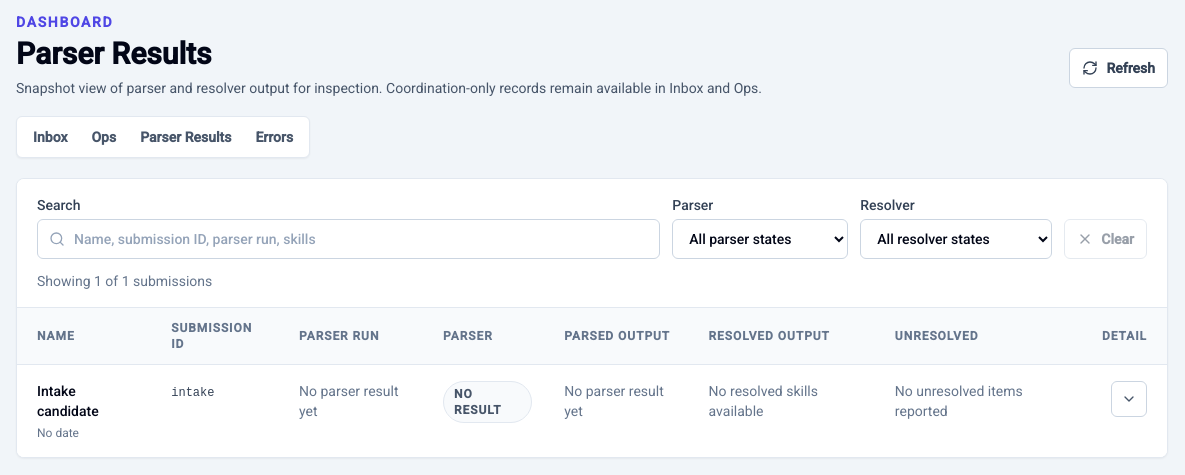
Scenario: removes an intake row when a refresh reports source expiry
This screenshot has width=1185, height=475.
Click the button titled "Refresh parser results" at (1119, 68), box [1069, 48, 1168, 88]
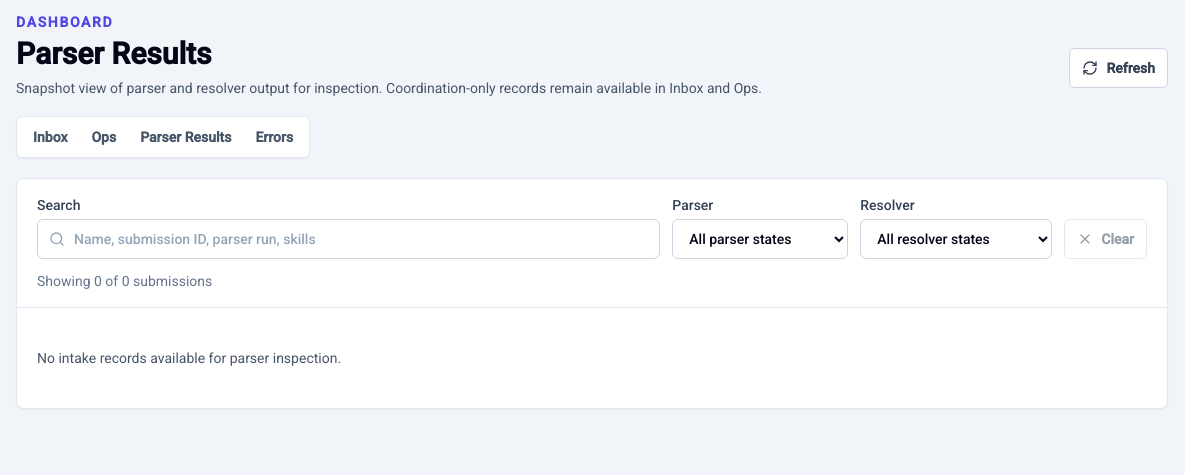
expect the text "Showing 0 of 0 submissions" is shown: met, box [37, 273, 212, 289]
expect the text "Intake candidate" is gone: met
